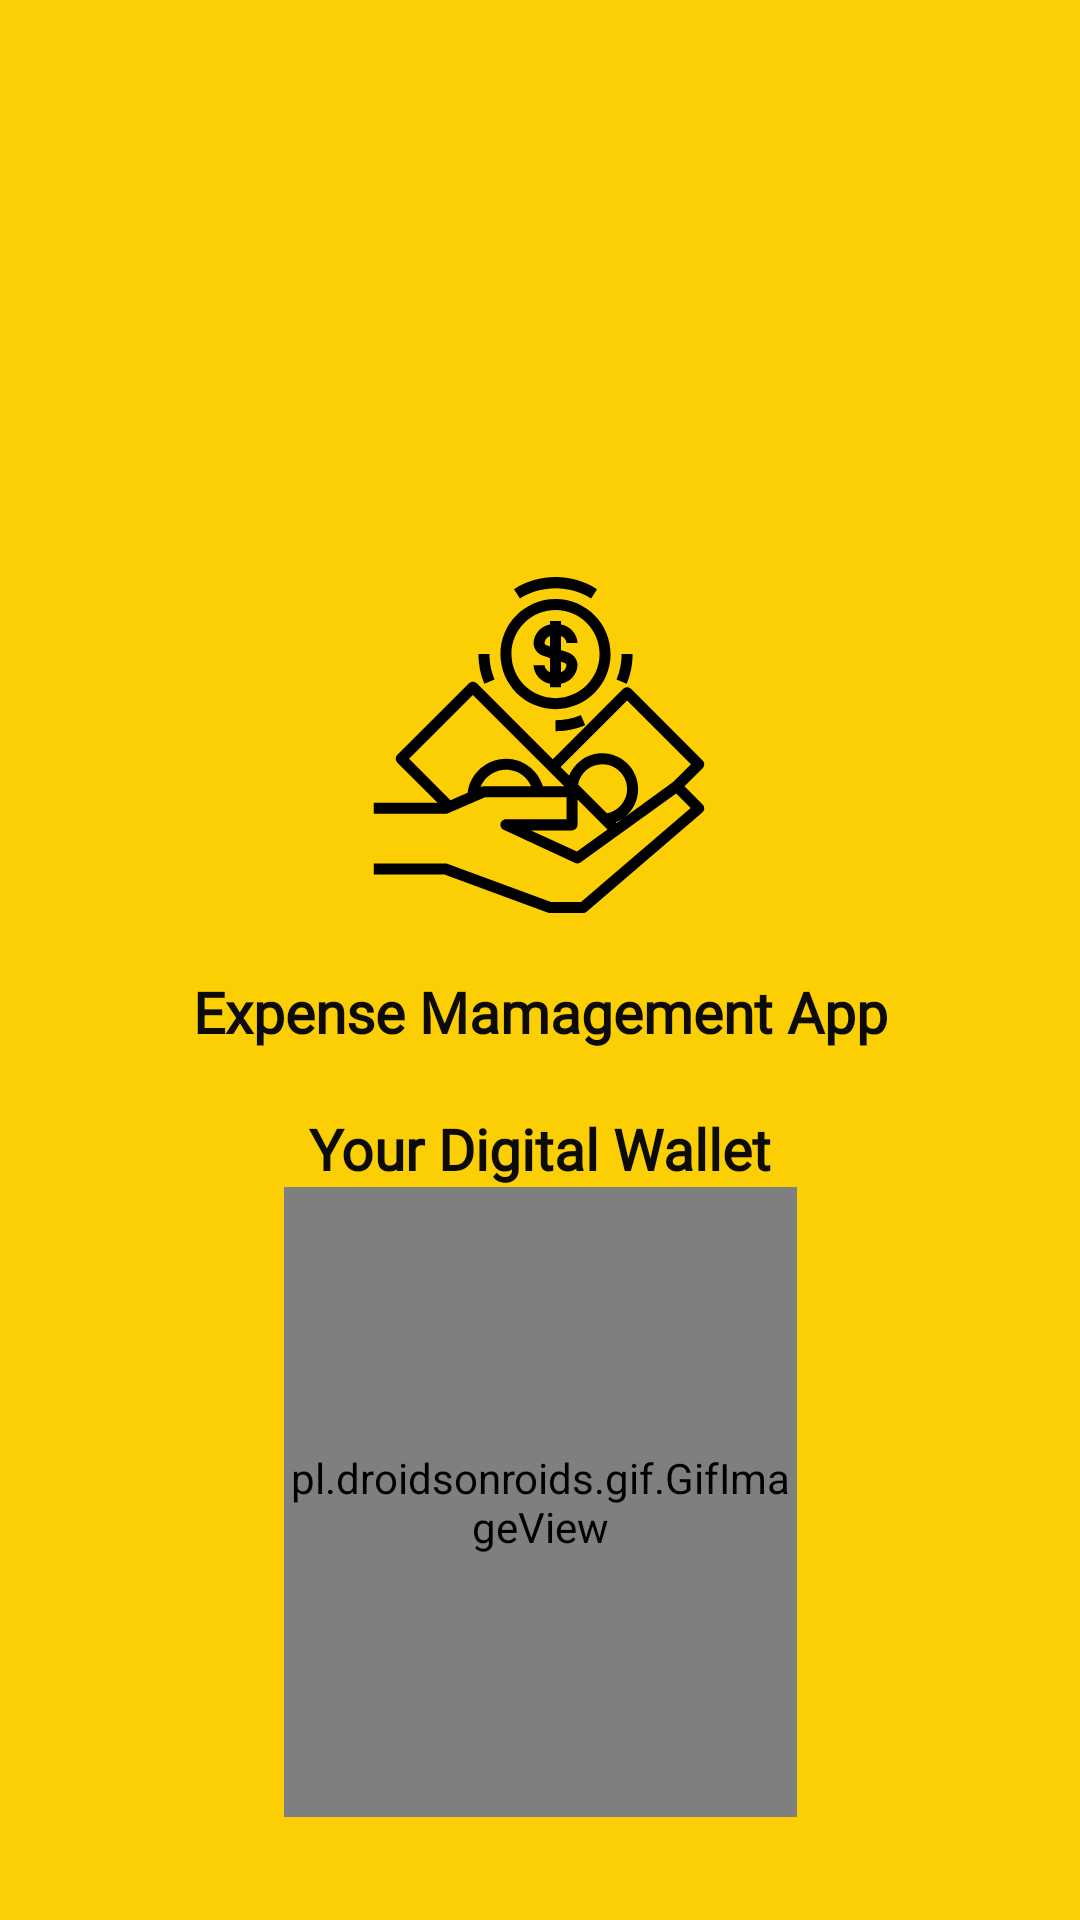

Point at icon controls on the screen. Image size 1080*1920, points as (x=x, y=y).
money: (x=539, y=745)
